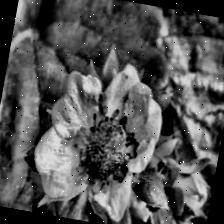Blossom Blight: (62, 98, 146, 202)
